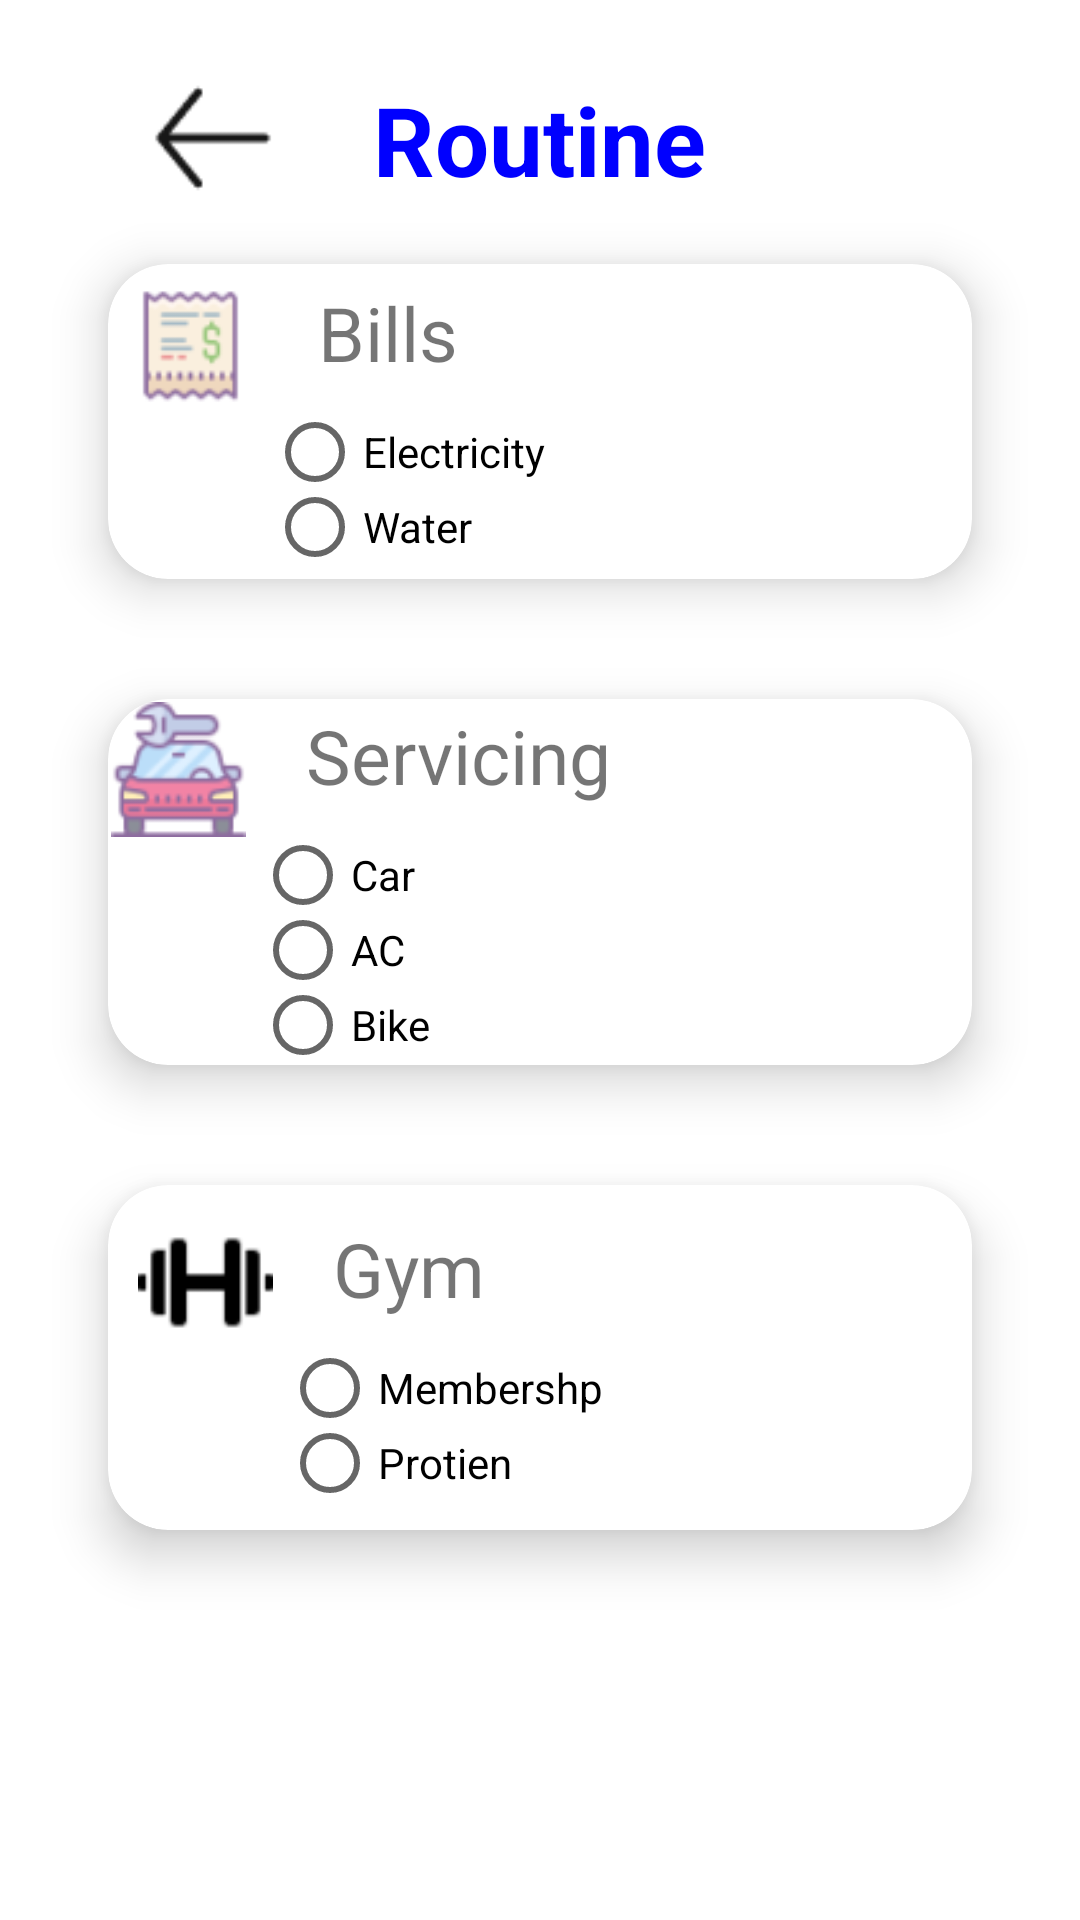

Named icons in this screenshot (1080 x 1920) and their centers, point (x, y):
back arrow: point (213, 138)
